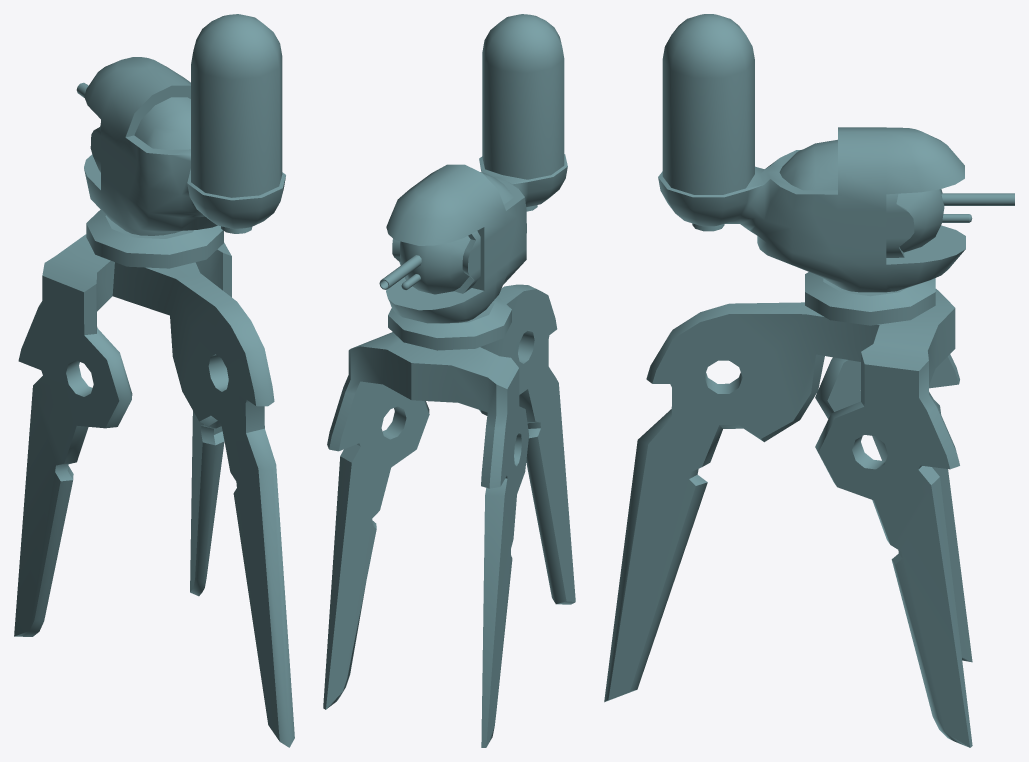
File: prop_turret.FBX
3 renders of one model, left to right at view 1: azimuth 30°, elevation 25°; view 2: azimuth 150°, elevation 25°; view 3: azimuth 270°, elevation 25°, orthographic. The views are drawn at different scales.
Visible parts, largest first — view 1: prop_turret_body, prop_turret_head, prop_turret_face; view 2: prop_turret_body, prop_turret_head, prop_turret_face; view 3: prop_turret_body, prop_turret_head, prop_turret_face.
Boxes of the visible parts, x1=… form: prop_turret_body: x1=14, y1=234, x2=294, y2=747; prop_turret_head: x1=84, y1=14, x2=285, y2=268; prop_turret_face: x1=76, y1=82, x2=100, y2=172; prop_turret_body: x1=323, y1=284, x2=575, y2=747; prop_turret_head: x1=386, y1=14, x2=567, y2=350; prop_turret_face: x1=379, y1=231, x2=480, y2=294; prop_turret_body: x1=604, y1=289, x2=972, y2=747; prop_turret_head: x1=658, y1=14, x2=965, y2=325; prop_turret_face: x1=886, y1=189, x2=1014, y2=257.
Bounding box in the file's own units: 0.4289 × 1.47 × 0.7991.
